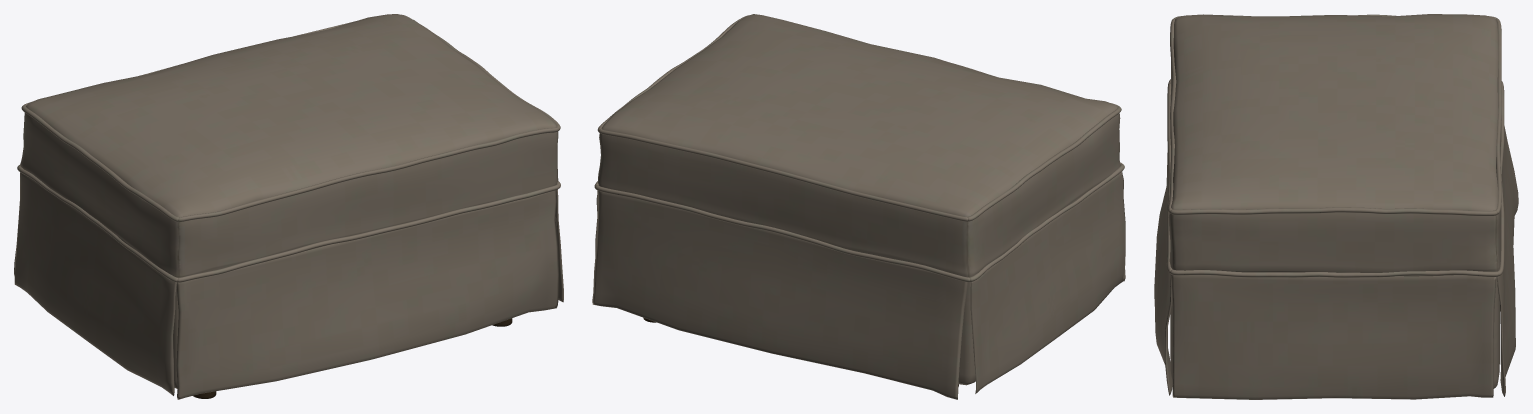
Rendered from abo-B073G7WNB1.glb.
3 renders of one model, left to right at view 1: azimuth 30°, elevation 25°; view 2: azimuth 150°, elevation 25°; view 3: azimuth 270°, elevation 25°, orthographic. The views are drawn at different scales.
Size of the model in its own units: 0.944 by 0.479 by 0.703.
Materials: 1 (1 with a texture image).
